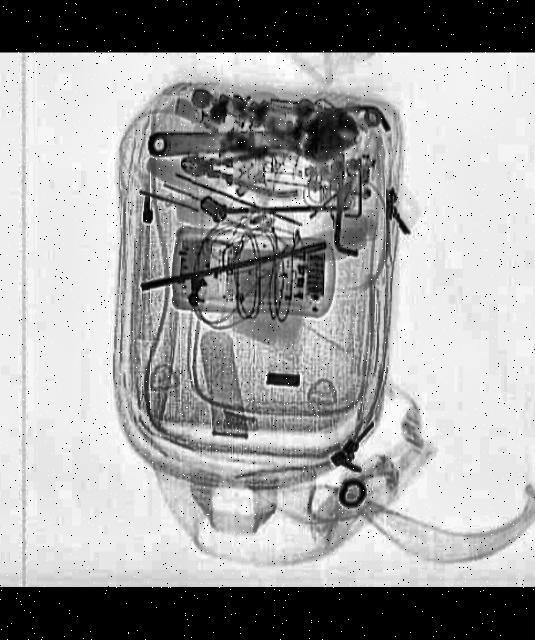Pliers: (176, 142, 300, 199)
Wrench: (147, 110, 360, 171)
